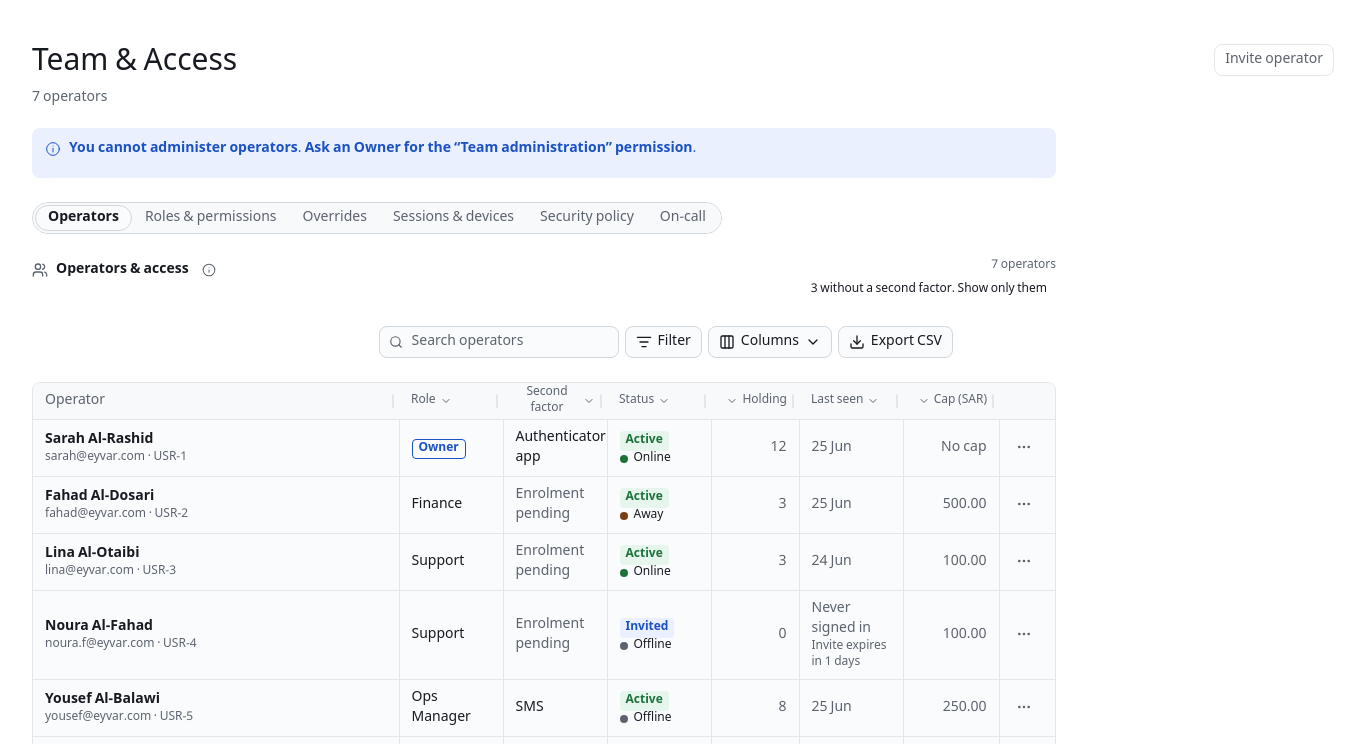
it: §11.2 — refused, not hidden › keeps every control in place for a role that cannot administer the team
Check: the text "You cannot administer operators. Ask an Owner for the “Team administration” permission." is shown, box x1=69 y1=137 x2=696 y2=161
Check: the button "Invite operator" is disabled, box x1=1214 y1=44 x2=1334 y2=76
Click the button named "More actions" at (1024, 706), box x1=1012 y1=694 x2=1036 y2=718
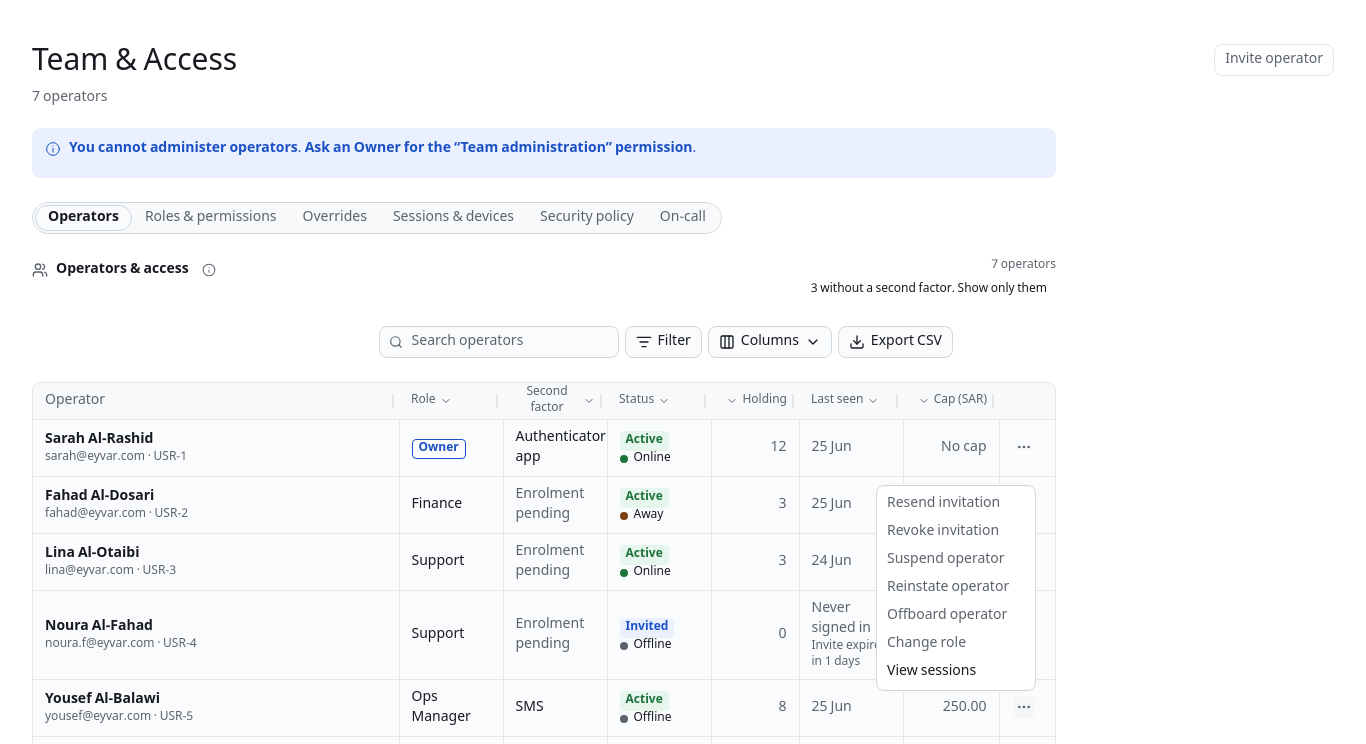
Check: the number of menu items is 7
